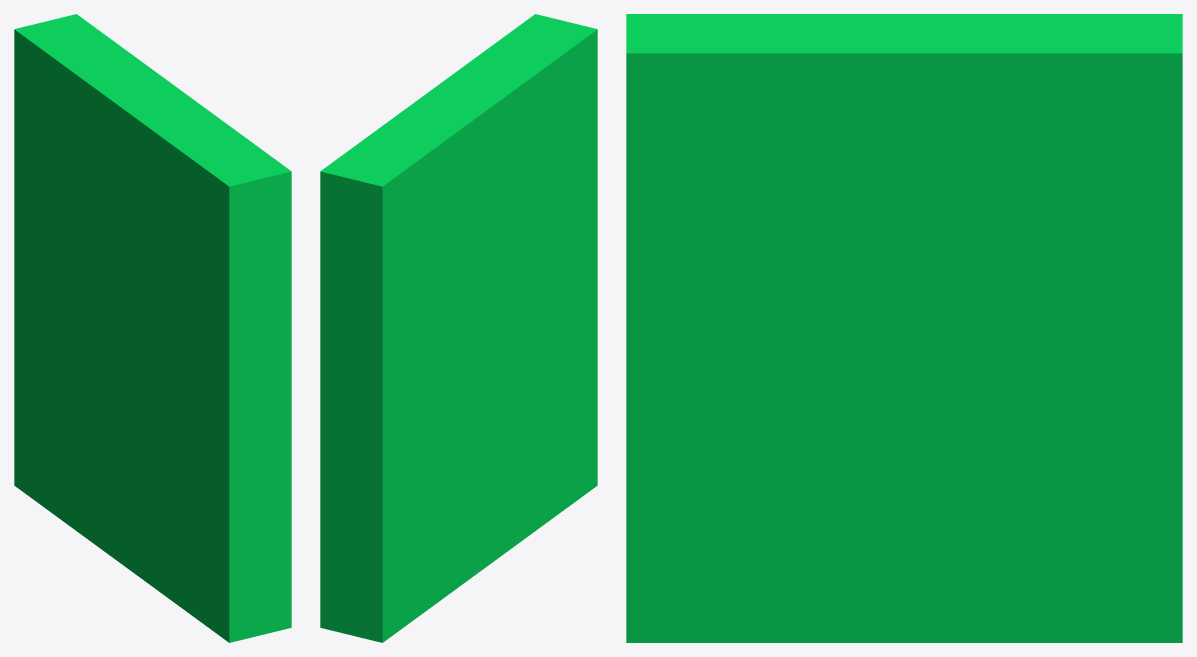
File: brakable.fbx
The picture shows the model from 3 angles, left to right: view 1: azimuth 30°, elevation 25°; view 2: azimuth 150°, elevation 25°; view 3: azimuth 270°, elevation 25°; orthographic projection. The views are drawn at different scales.
Parts seen in each view (by area): view 1: Cube, Cube_cell.001, Cube_cell.067, Cube_cell.007, Cube_cell.059, Cube_cell.034, Cube_cell.006, Cube_cell.078, Cube_cell.084, Cube_cell.028, Cube_cell.066, Cube_cell.051 (+30 smaller); view 2: Cube, Cube_cell.051, Cube_cell.034, Cube_cell.065, Cube_cell.006, Cube_cell.049, Cube_cell.096, Cube_cell.022, Cube_cell.066, Cube_cell.094, Cube_cell.028, Cube_cell.084 (+32 smaller); view 3: Cube, Cube_cell.060, Cube_cell.005, Cube_cell.071, Cube_cell.039, Cube_cell.010, Cube_cell.012, Cube_cell.074, Cube_cell.063, Cube_cell.084, Cube_cell.016, Cube_cell.030_cell.006 (+50 smaller).
Part boxes in pixels (left/top/right/bottom): Cube: left=14, top=24, right=291, bottom=642; Cube_cell.001: left=193, top=253, right=291, bottom=336; Cube_cell.067: left=203, top=311, right=291, bottom=393; Cube_cell.007: left=198, top=199, right=291, bottom=271; Cube_cell.059: left=70, top=337, right=150, bottom=442; Cube_cell.034: left=53, top=136, right=116, bottom=261; Cube_cell.006: left=75, top=307, right=154, bottom=387; Cube_cell.078: left=97, top=224, right=152, bottom=336; Cube_cell.084: left=91, top=61, right=174, bottom=154; Cube_cell.028: left=133, top=454, right=185, bottom=585; Cube_cell.066: left=113, top=160, right=183, bottom=243; Cube_cell.051: left=14, top=354, right=63, bottom=452; Cube: left=320, top=14, right=597, bottom=638; Cube_cell.051: left=346, top=486, right=431, bottom=584; Cube_cell.034: left=420, top=179, right=485, bottom=296; Cube_cell.065: left=358, top=399, right=419, bottom=487; Cube_cell.006: left=443, top=308, right=524, bottom=404; Cube_cell.049: left=549, top=236, right=597, bottom=366; Cube_cell.096: left=320, top=536, right=419, bottom=597; Cube_cell.022: left=326, top=457, right=419, bottom=529; Cube_cell.066: left=481, top=115, right=552, bottom=211; Cube_cell.094: left=421, top=527, right=468, bottom=613; Cube_cell.028: left=501, top=422, right=556, bottom=508; Cube_cell.084: left=385, top=99, right=474, bottom=188; Cube: left=626, top=14, right=1182, bottom=642; Cube_cell.060: left=688, top=334, right=857, bottom=457; Cube_cell.005: left=968, top=48, right=1145, bottom=209; Cube_cell.071: left=964, top=366, right=1128, bottom=531; Cube_cell.039: left=1090, top=415, right=1182, bottom=523; Cube_cell.010: left=975, top=207, right=1112, bottom=366; Cube_cell.012: left=780, top=231, right=874, bottom=366; Cube_cell.074: left=689, top=457, right=791, bottom=552; Cube_cell.063: left=855, top=484, right=1028, bottom=559; Cube_cell.084: left=927, top=14, right=1020, bottom=144; Cube_cell.016: left=925, top=556, right=1003, bottom=642; Cube_cell.030_cell.006: left=856, top=293, right=930, bottom=372.
Bounding box in the file's own units: 388 × 2707 × 2314.
